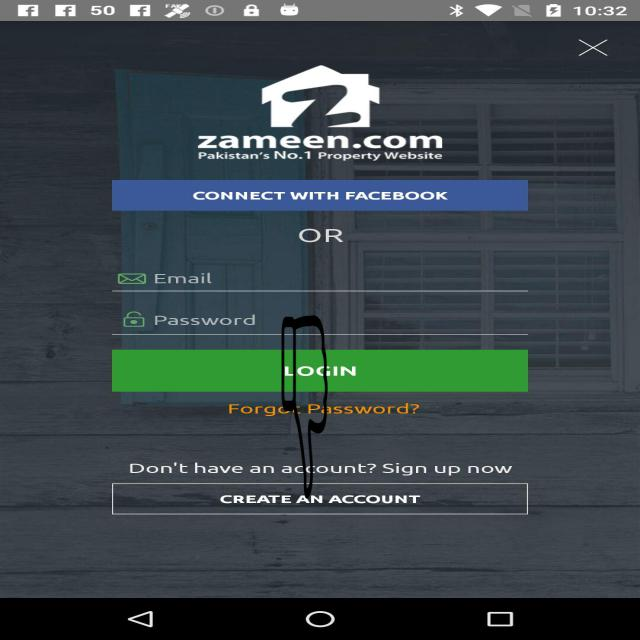obstruction: (281, 315, 328, 499)
